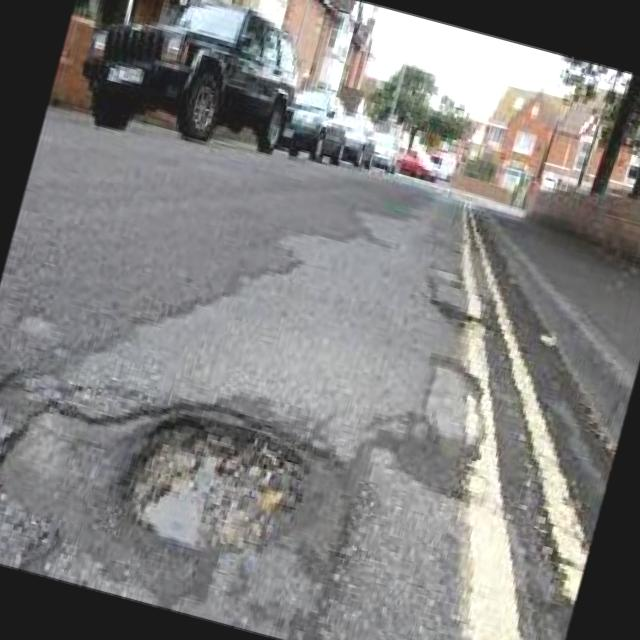Lubang: (130, 423, 310, 550)
